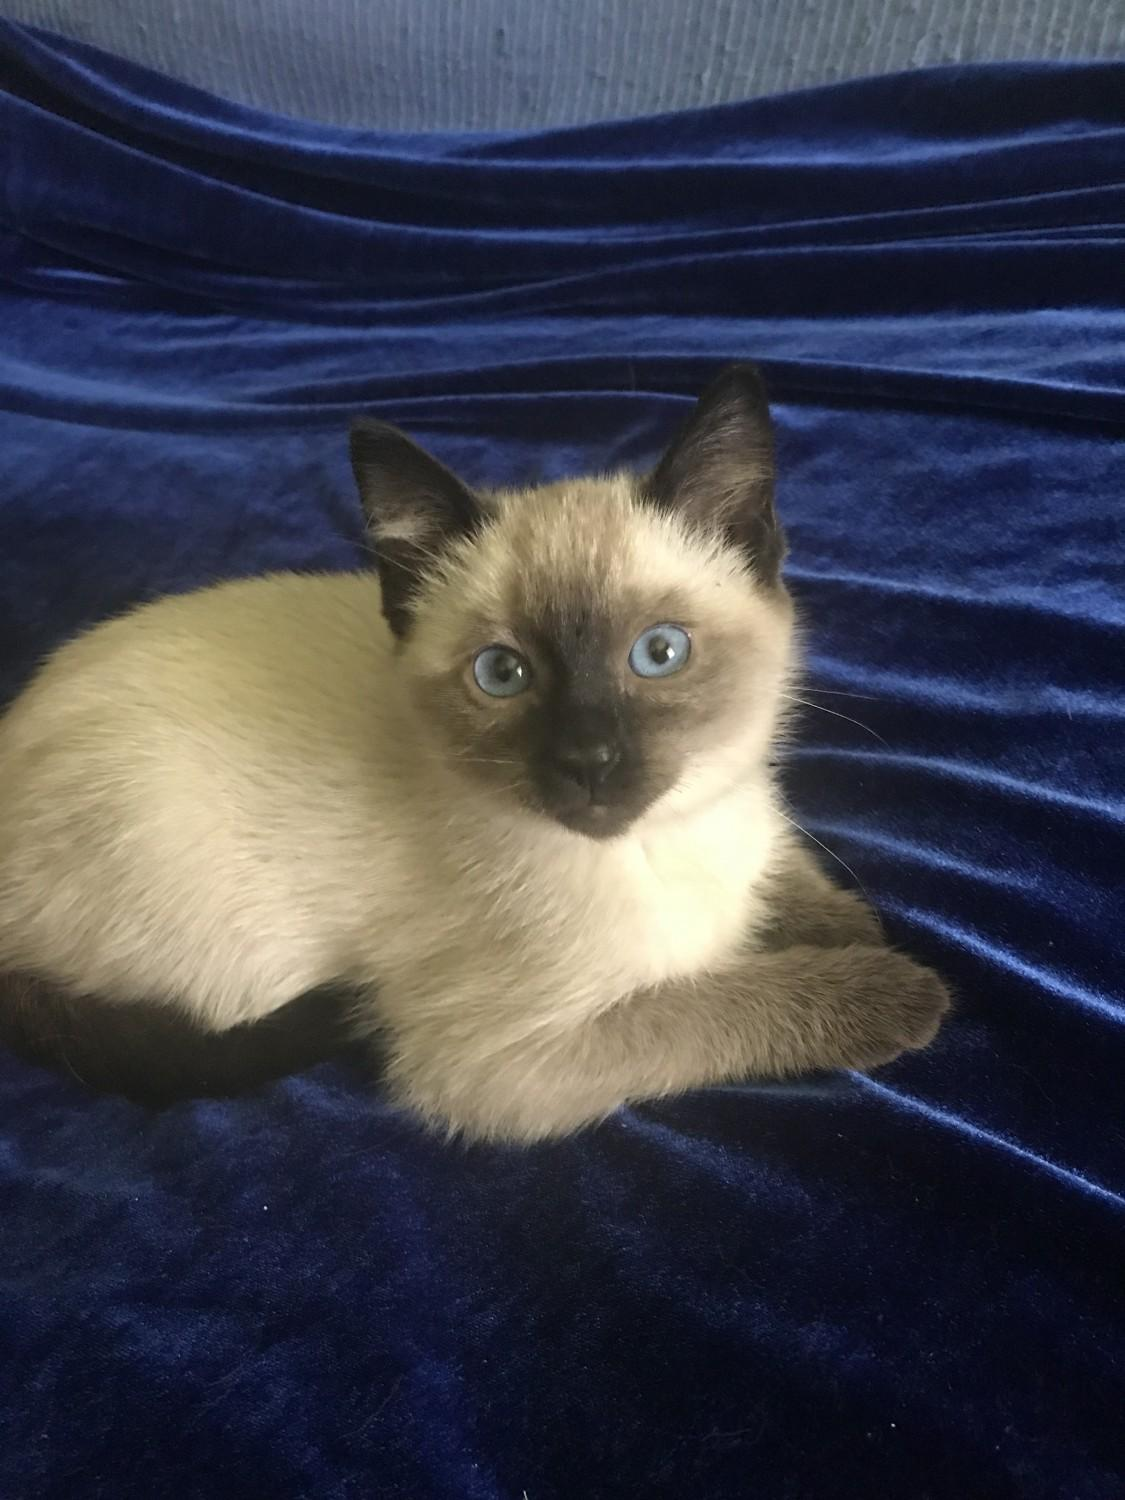siamese: (331, 384, 844, 866)
